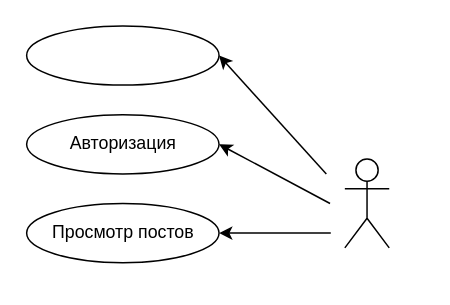
Image size: 450x305. Some labels were removed from this diagram. Here are the shapes that lost their labels. From the top down, the centre of each, then its label:
At point (122, 54): "Регистрация".
At point (366, 203): "Пользователь".
